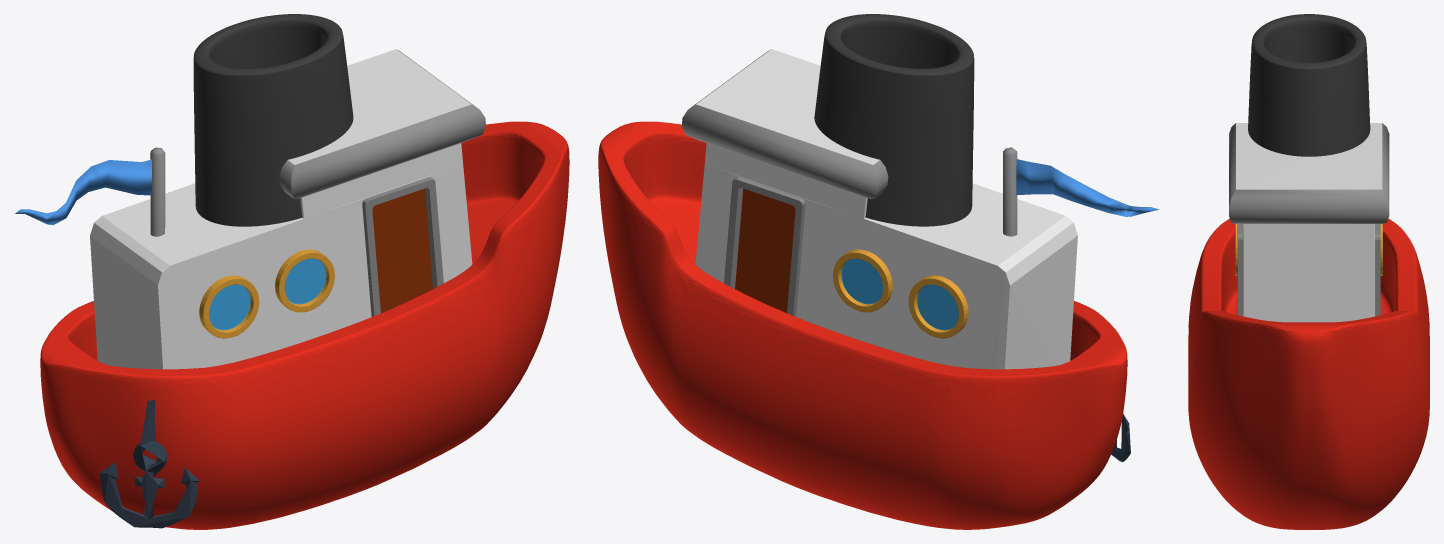
3 renders of one model, left to right at view 1: azimuth 30°, elevation 25°; view 2: azimuth 150°, elevation 25°; view 3: azimuth 270°, elevation 25°, orthographic. The views are drawn at different scales.
Visible parts, largest first — view 1: hull_Cube.002, cabin_Cube.003, chimney_Cylinder.001, anchor_Circle, flag_Cube.005, flagpole_Cube.004; view 2: hull_Cube.002, cabin_Cube.003, chimney_Cylinder.001, flag_Cube.005, flagpole_Cube.004; view 3: hull_Cube.002, cabin_Cube.003, chimney_Cylinder.001.
Boxes of the visible parts, x1,y1,x2,y2 form: hull_Cube.002: (40, 121, 569, 529); cabin_Cube.003: (90, 49, 486, 369); chimney_Cylinder.001: (193, 14, 353, 226); anchor_Circle: (99, 400, 199, 528); flag_Cube.005: (15, 159, 151, 225); flagpole_Cube.004: (150, 147, 165, 236); hull_Cube.002: (598, 121, 1127, 529); cabin_Cube.003: (681, 49, 1077, 369); chimney_Cylinder.001: (814, 14, 974, 226); flag_Cube.005: (1016, 159, 1158, 216); flagpole_Cube.004: (1003, 147, 1017, 236); hull_Cube.002: (1188, 218, 1429, 529); cabin_Cube.003: (1229, 123, 1389, 322); chimney_Cylinder.001: (1248, 14, 1370, 156).
Size of the model in its own units: 7.33 by 5.86 by 2.88.
